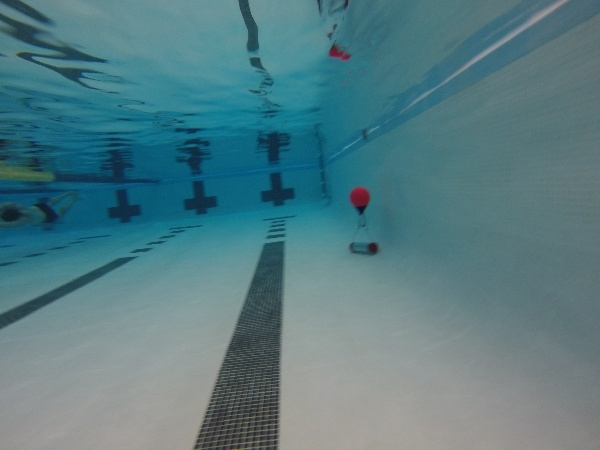buoy_red: (347, 186, 373, 217)
